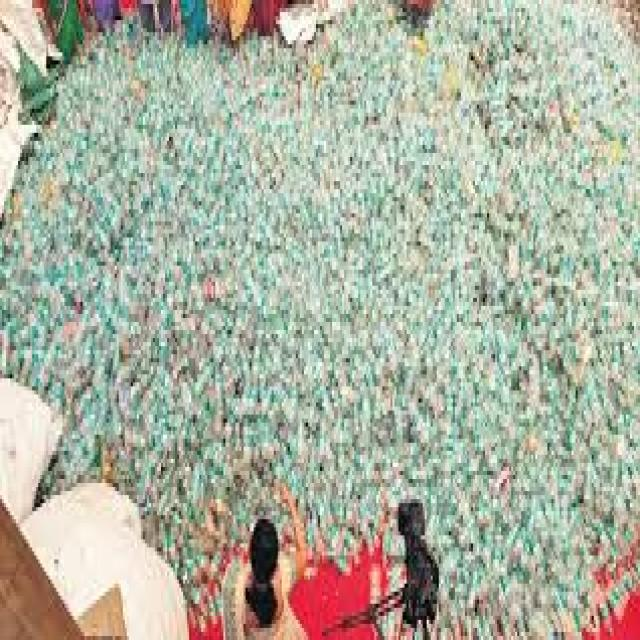plastic: (108, 61, 635, 484)
